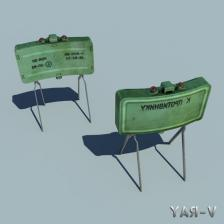MOH-50: (113, 77, 216, 150), (13, 33, 107, 101)
